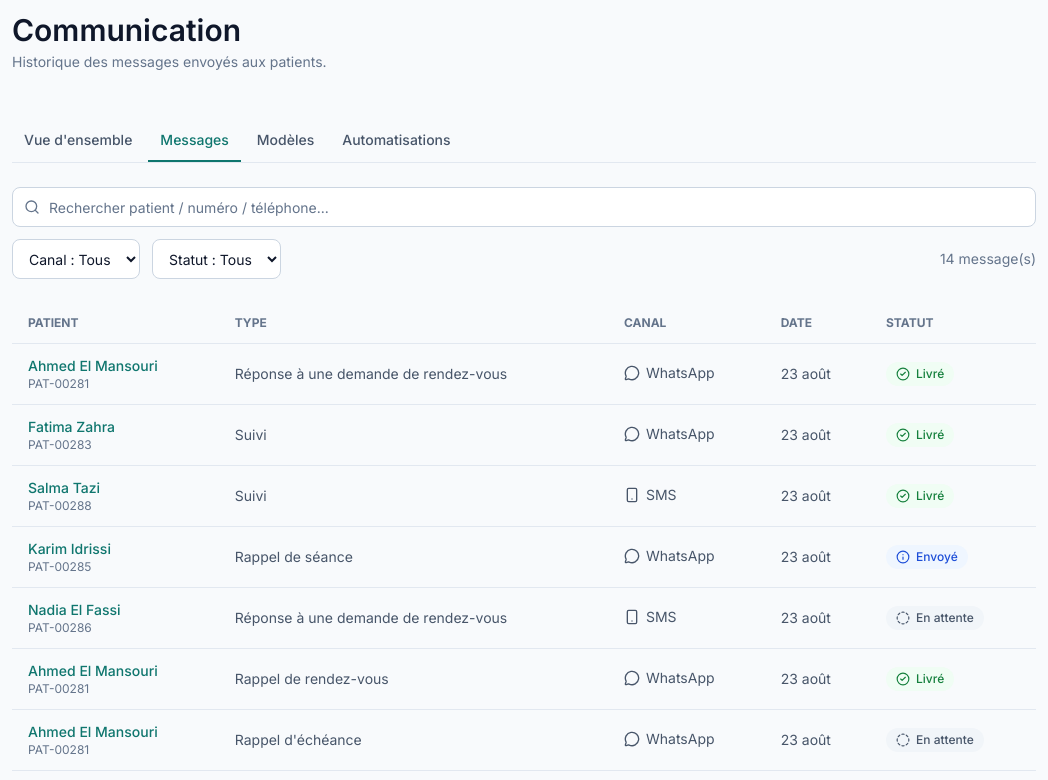
Test case: MessagesPage › filters by search (patient name)
Type "Mehdi" into the search field labelled "Rechercher patient / numéro / téléphone...". click: (524, 207)
box: [12,187,1036,227]
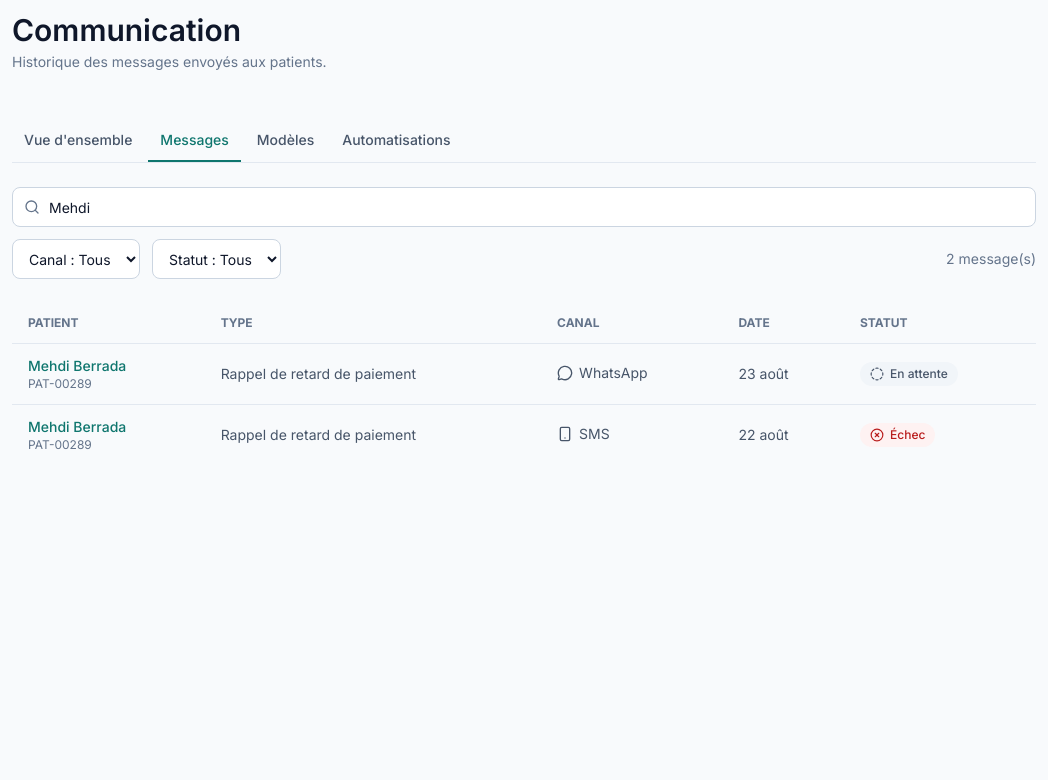
Expected: the button "Mehdi Berrada" in the row of "WhatsApp" is shown, [28,356,126,376]
Expected: the button "Ahmed El Mansouri" is gone
